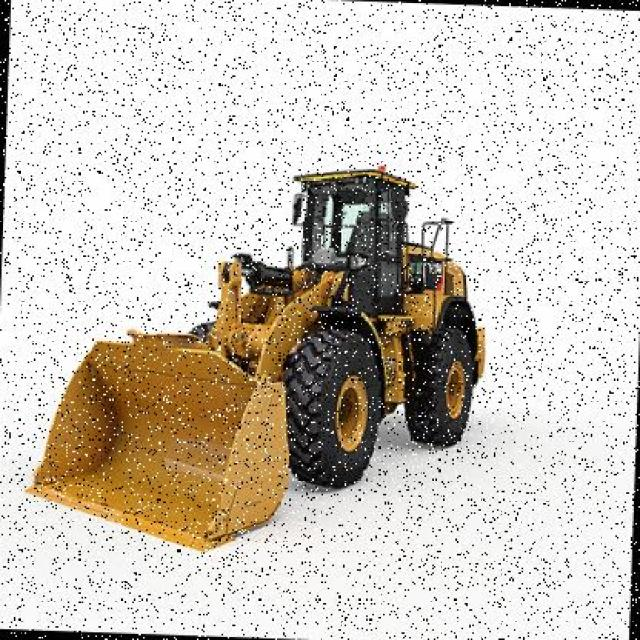buldozerpayloadergrader: (15, 132, 518, 553)
